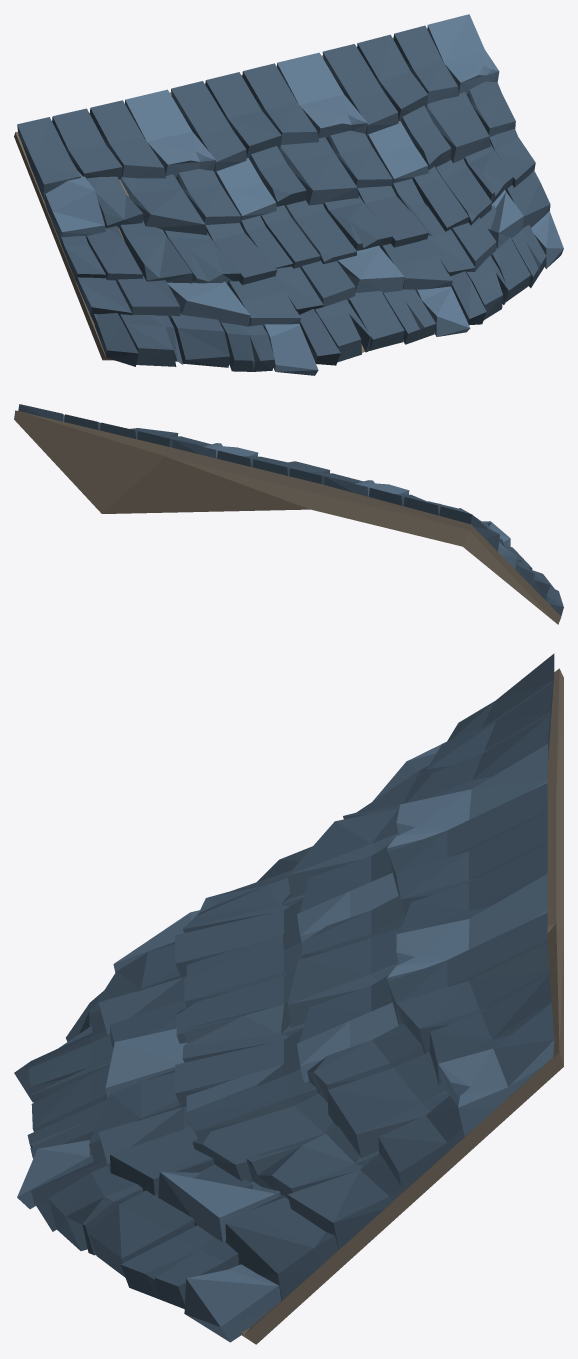
The model's file is _ROOF_base_round_1.fbx.
3 views of the same model, one above another, from view 1: azimuth 30°, elevation 25°; view 2: azimuth 150°, elevation 25°; view 3: azimuth 270°, elevation 25° (orthographic). The views are drawn at different scales.
Parts seen in each view (by area): view 1: ROOF_base_round_1; view 2: ROOF_base_round_1; view 3: ROOF_base_round_1.
Part boxes in pixels (x1,y1,x2,y2): ROOF_base_round_1: (14, 14, 563, 375); ROOF_base_round_1: (14, 404, 563, 624); ROOF_base_round_1: (14, 653, 563, 1344).
Bounding box in the file's own units: 301 × 112 × 179.
